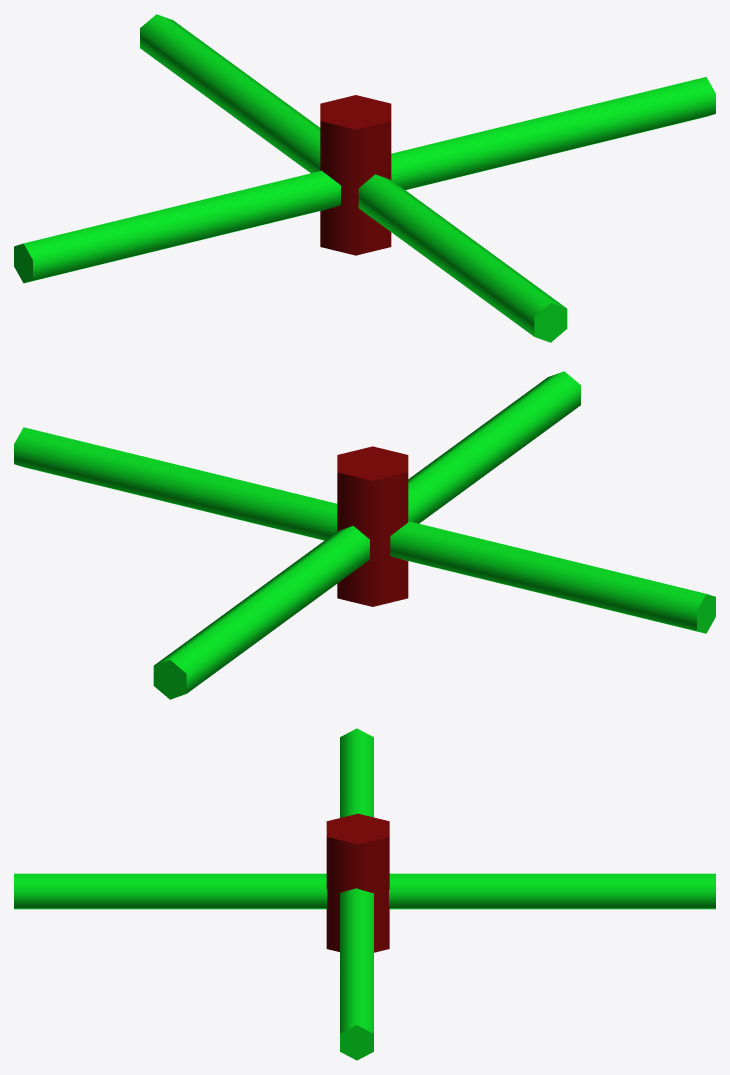
The model's file is Doppelter_Propeller.fbx.
3 views of the same model, one above another, from view 1: azimuth 30°, elevation 25°; view 2: azimuth 150°, elevation 25°; view 3: azimuth 270°, elevation 25° (orthographic). The views are drawn at different scales.
Parts seen in each view (by area): view 1: Propeller_1, Propeller_2, Mittelteil; view 2: Propeller_1, Propeller_2, Mittelteil; view 3: Propeller_2, Propeller_1, Mittelteil.
Boxes of the visible parts, x1,y1,x2,y2 form: Propeller_1: (14, 77, 715, 283); Propeller_2: (140, 14, 567, 342); Mittelteil: (320, 95, 391, 255); Propeller_1: (14, 427, 715, 633); Propeller_2: (153, 371, 580, 699); Mittelteil: (337, 446, 408, 606); Propeller_2: (14, 873, 715, 909); Propeller_1: (340, 728, 373, 1060); Mittelteil: (326, 813, 389, 952).
Size of the model in its own units: 250 by 44.08 by 250.
